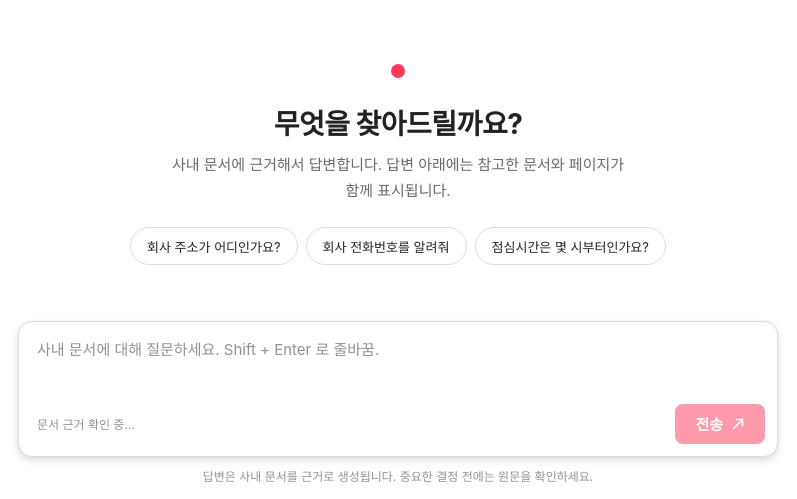
Test: ChatPanel › [chat:AC-37] renders the completed assistant reply's markdown as real elements once streaming finishes
Type "give me markdown" into the text box at [398, 359], box [19,322,777,396]
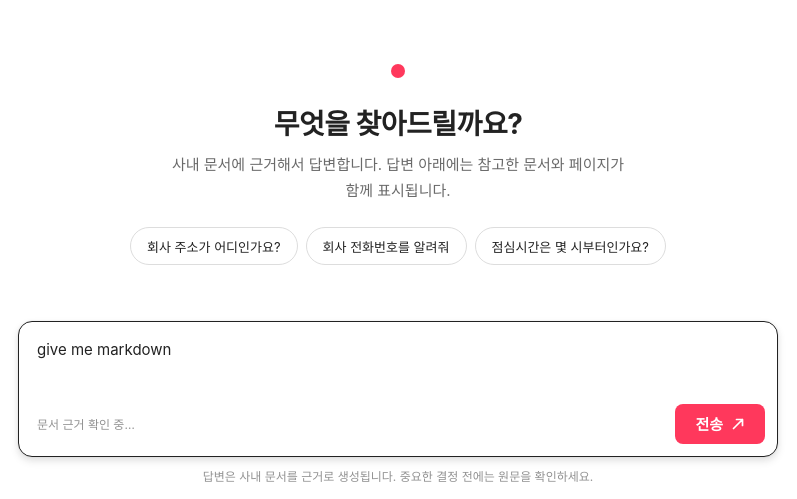
Click the button "전송" at [720, 424], box [675,404,765,444]
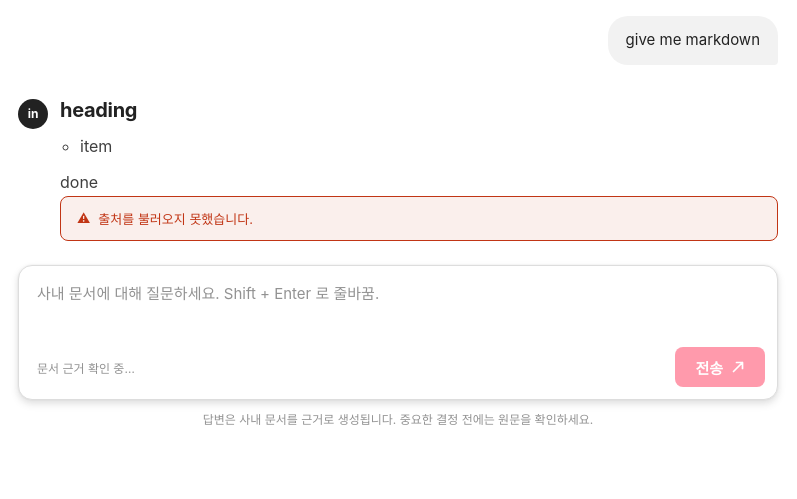
Result: the heading "heading" is shown at [60,98,137,122]
Result: the list item "item" is shown at [80,136,112,156]
